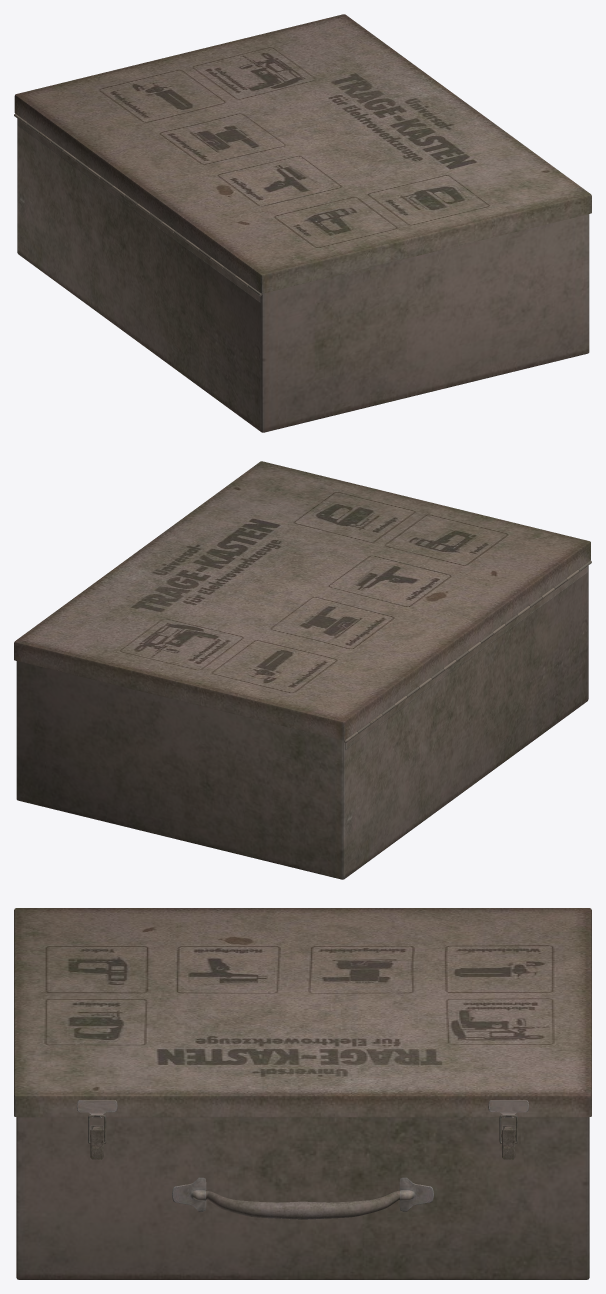
Rendered from core-toolbox.glb.
The picture shows the model from 3 angles, top to bottom: view 1: azimuth 30°, elevation 25°; view 2: azimuth 150°, elevation 25°; view 3: azimuth 270°, elevation 25°; orthographic projection. The views are drawn at different scales.
Visible parts, largest first — view 1: Circle_013, Cube_021; view 2: Circle_013, Cube_021; view 3: Circle_013, Cube_021.
Boxes of the visible parts, x1,y1,x2,y2 form: Circle_013: (14, 14, 591, 296); Cube_021: (14, 113, 589, 432); Circle_013: (14, 461, 591, 740); Cube_021: (16, 565, 588, 879); Circle_013: (14, 908, 591, 1117); Cube_021: (16, 1115, 589, 1279).
Size of the model in its own units: 34.29 by 14.34 by 40.32.
1 material, 1 textured.
